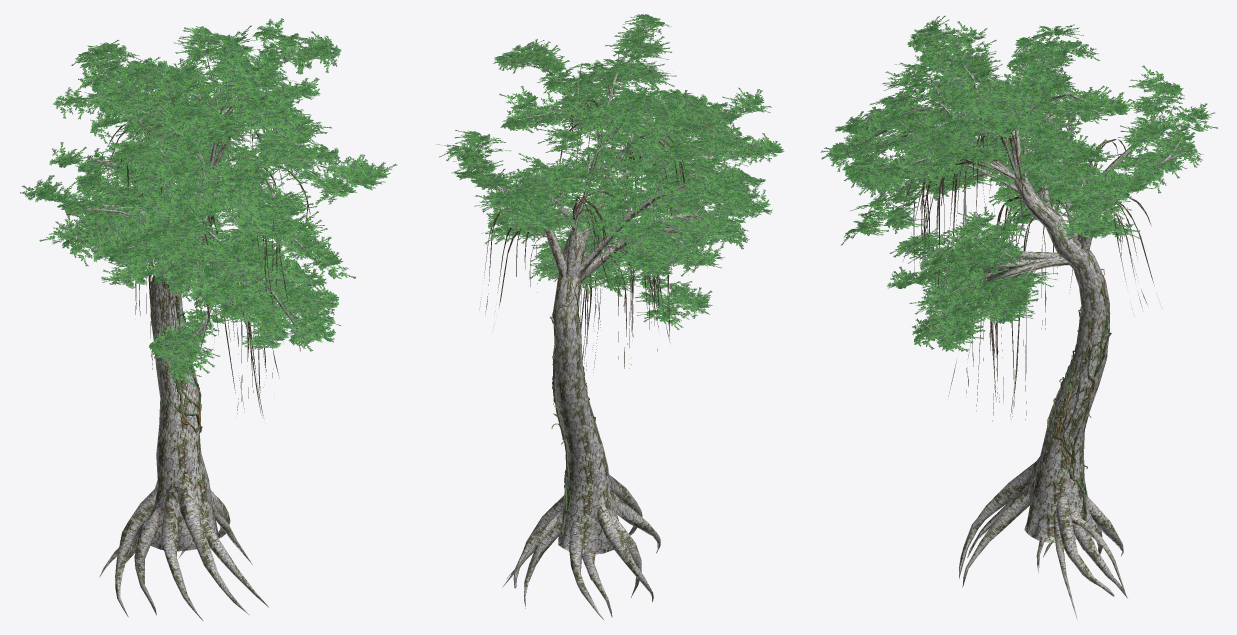
Rendered from Big_tree_01_D.glb.
3 renders of one model, left to right at view 1: azimuth 30°, elevation 25°; view 2: azimuth 150°, elevation 25°; view 3: azimuth 270°, elevation 25°, orthographic. The views are drawn at different scales.
Visible parts, largest first — view 1: Big_tree_01_D; view 2: Big_tree_01_D; view 3: Big_tree_01_D.
Boxes of the visible parts, x1,y1,x2,y2 form: Big_tree_01_D: (20,18,397,620); Big_tree_01_D: (436,14,784,620); Big_tree_01_D: (820,15,1217,619).
Size of the model in its own units: 12.61 by 22.98 by 14.91.
Materials: 4 (4 with a texture image).
